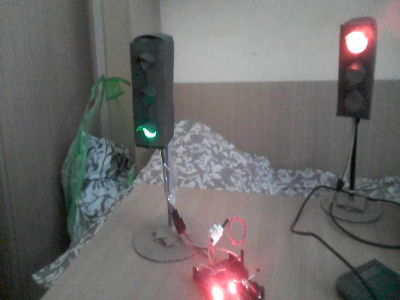trafficlight_green: (132, 39, 166, 147)
trafficlight_red: (337, 24, 376, 116)
